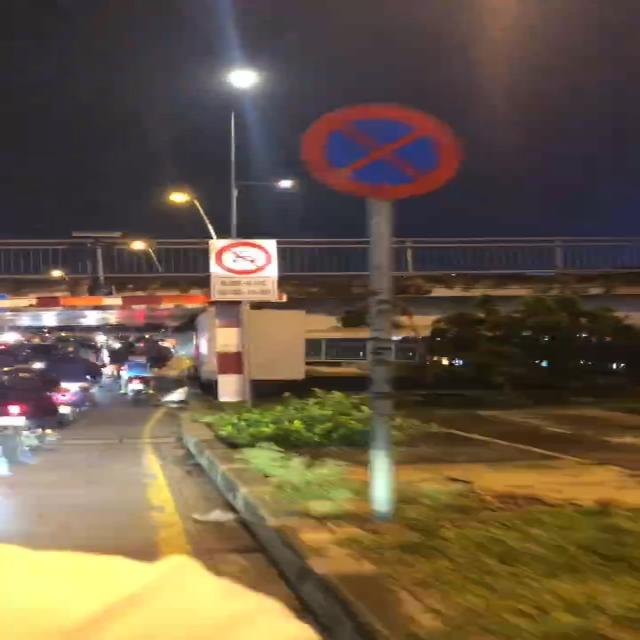Bien bao cam dung xe va do xe: (300, 101, 469, 204)
